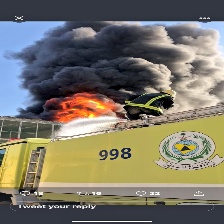fire: (50, 91, 119, 121)
smoke: (18, 24, 224, 102)
